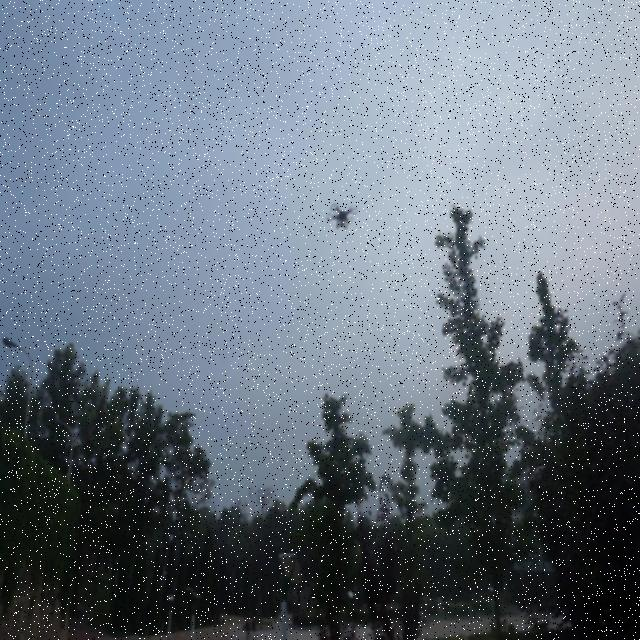UAV: (326, 203, 358, 231)
